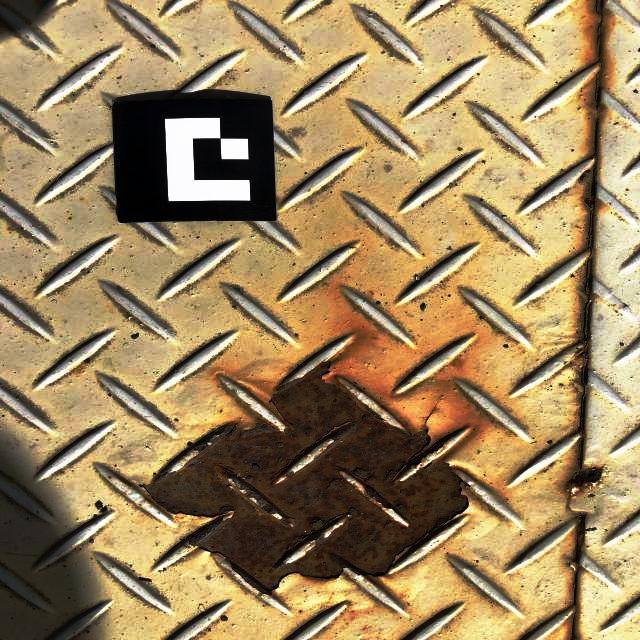Corrosion: (141, 360, 469, 595), (568, 467, 606, 490)
